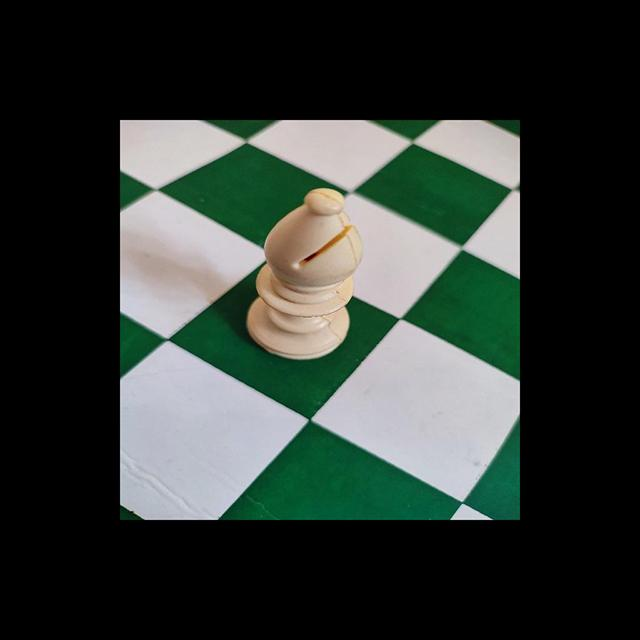white-bishop: (242, 184, 366, 359)
